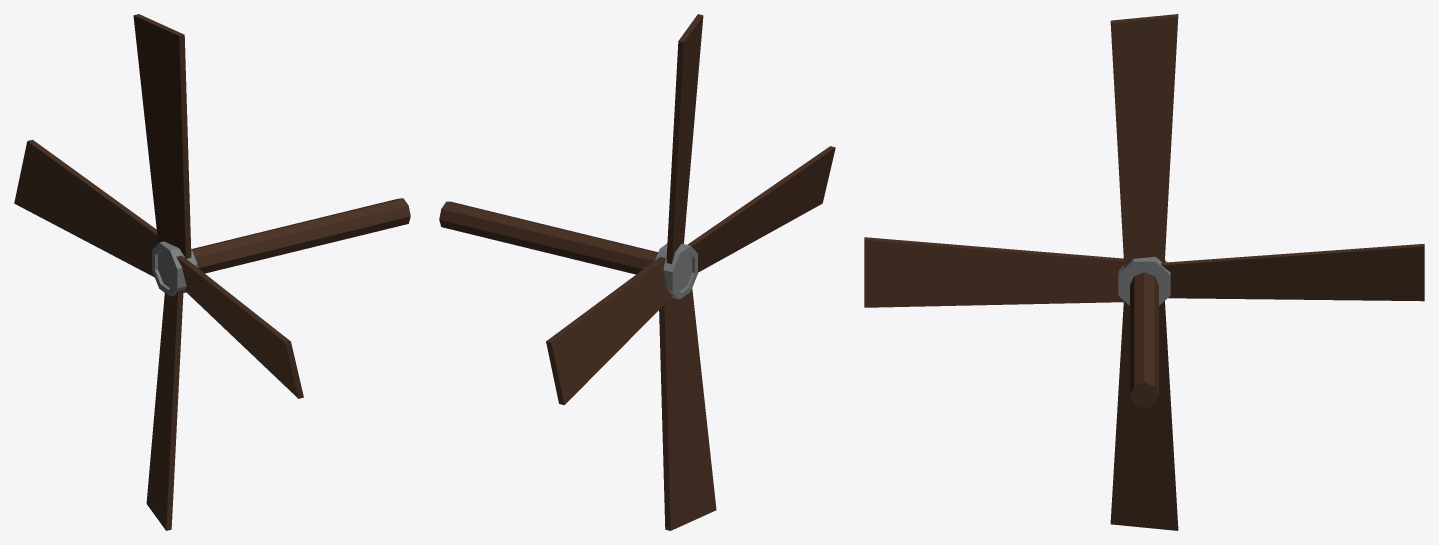
The model's file is mill_rot.fbx.
3 views of the same model, side by side, from view 1: azimuth 30°, elevation 25°; view 2: azimuth 150°, elevation 25°; view 3: azimuth 270°, elevation 25° (orthographic). The views are drawn at different scales.
Visible parts, largest first — view 1: mill_rot; view 2: mill_rot; view 3: mill_rot.
Boxes of the visible parts, box(x1,y1,x2,y2) form: mill_rot: box(14, 14, 410, 530); mill_rot: box(439, 14, 835, 530); mill_rot: box(864, 14, 1424, 530).
Size of the model in its own units: 324 by 600 by 600.
